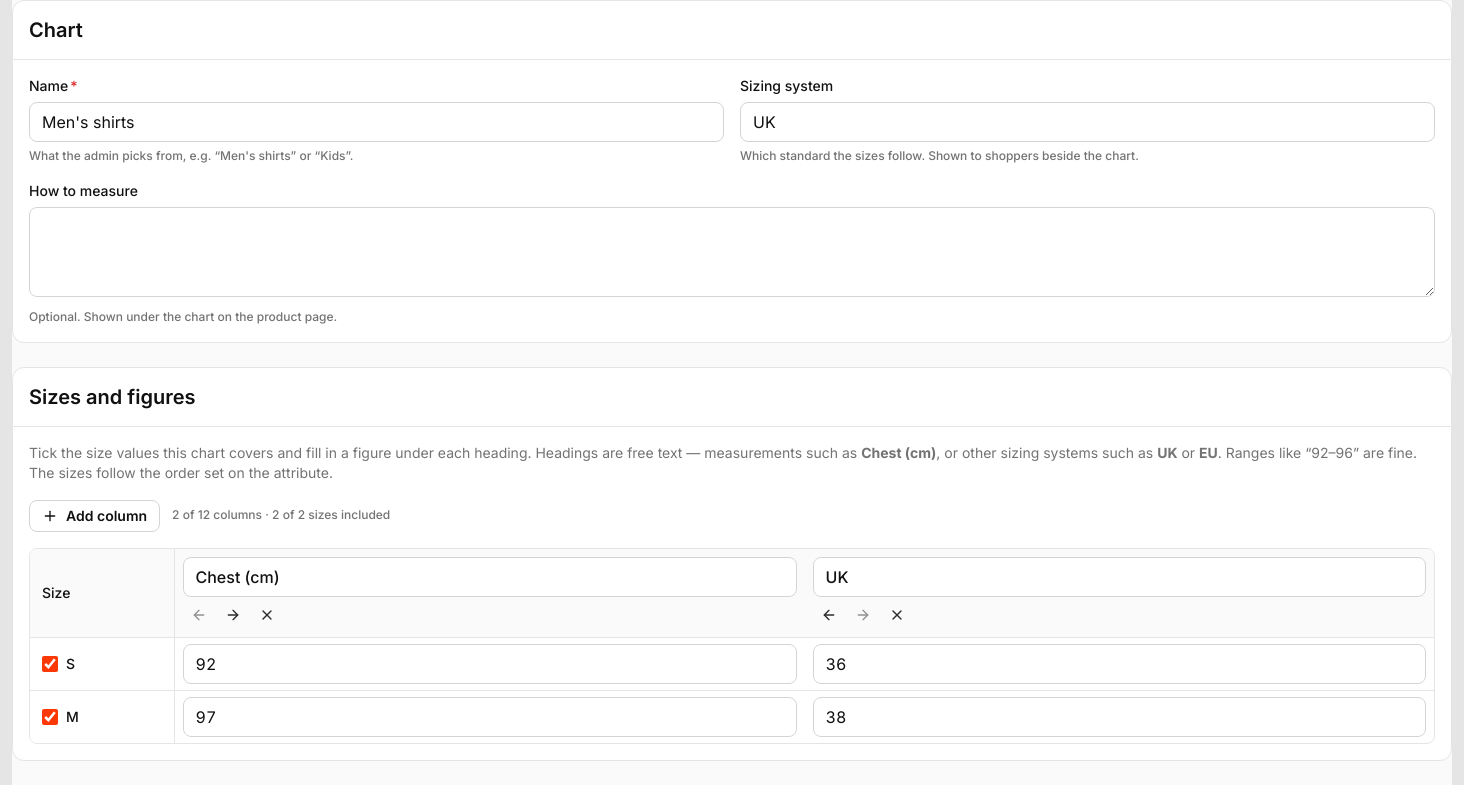
it: SizeChartEditor › moves every row's figure with its heading
What coordinates should you click on to do the following:
click the button named "Move UK left"
I would click on:
 (829, 615)
Its box is x1=813 y1=601 x2=845 y2=629.
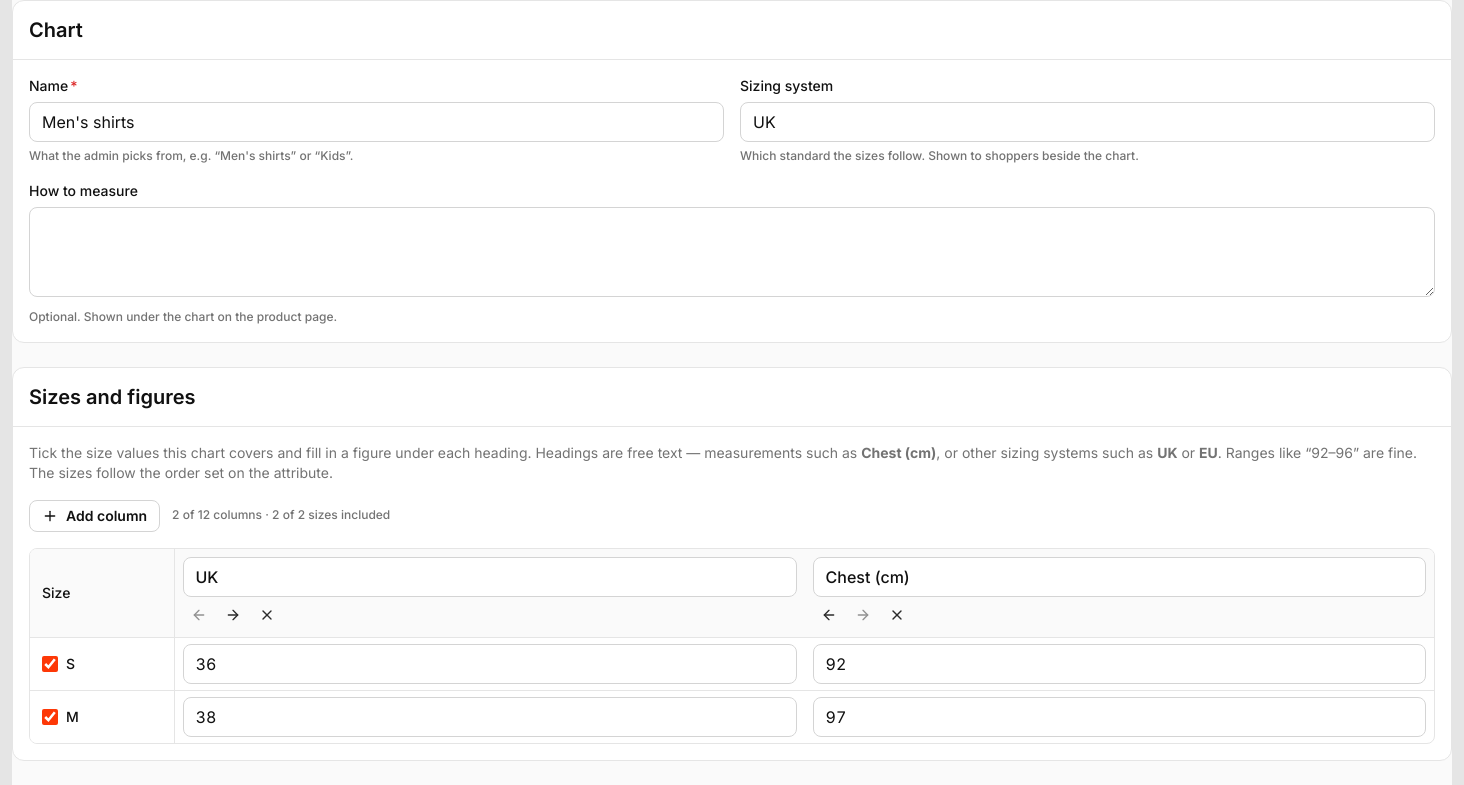
Expected: the field with id "chart-column-0" holds "UK", x1=182 y1=557 x2=797 y2=597
Expected: the field with id "chart-cell-s-0" holds "36", x1=182 y1=644 x2=797 y2=684
Expected: the field with id "chart-cell-m-1" holds "97", x1=813 y1=697 x2=1426 y2=737
